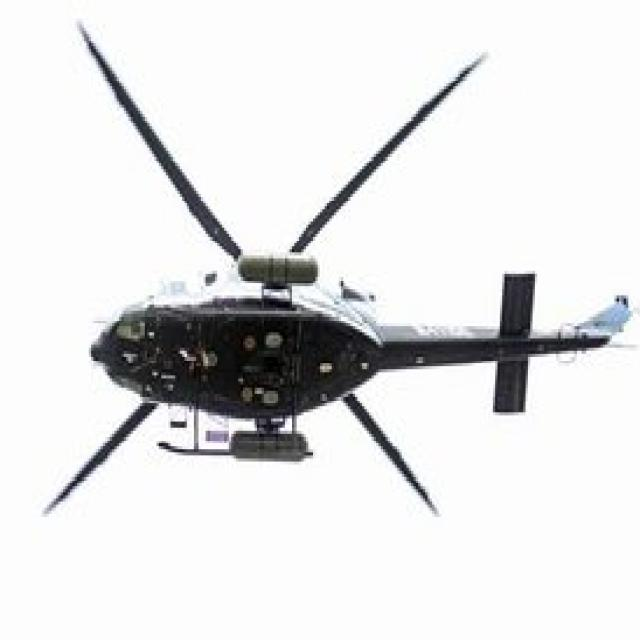helicopter: (40, 19, 640, 520)
